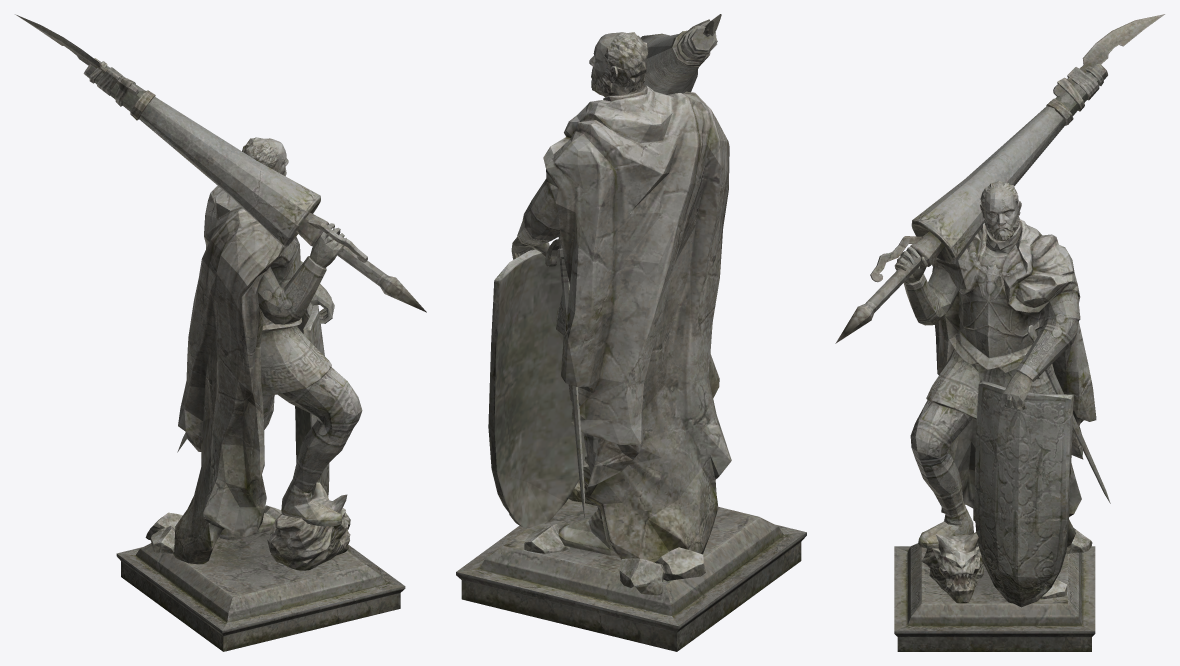
The model's file is bg_lut_lucastle_herostatue05_sm_artree.FBX.
The picture shows the model from 3 angles, left to right: view 1: azimuth 30°, elevation 25°; view 2: azimuth 150°, elevation 25°; view 3: azimuth 270°, elevation 25°; orthographic projection. The views are drawn at different scales.
Visible parts, largest first — view 1: bg_lut_lucastle_herostatue05_sm_artree; view 2: bg_lut_lucastle_herostatue05_sm_artree; view 3: bg_lut_lucastle_herostatue05_sm_artree.
Part boxes in pixels (x1,y1,x2,y2): bg_lut_lucastle_herostatue05_sm_artree: (15, 14, 426, 651); bg_lut_lucastle_herostatue05_sm_artree: (456, 14, 806, 651); bg_lut_lucastle_herostatue05_sm_artree: (835, 14, 1164, 651).
Bounding box in the file's own units: 202 × 430 × 246.
